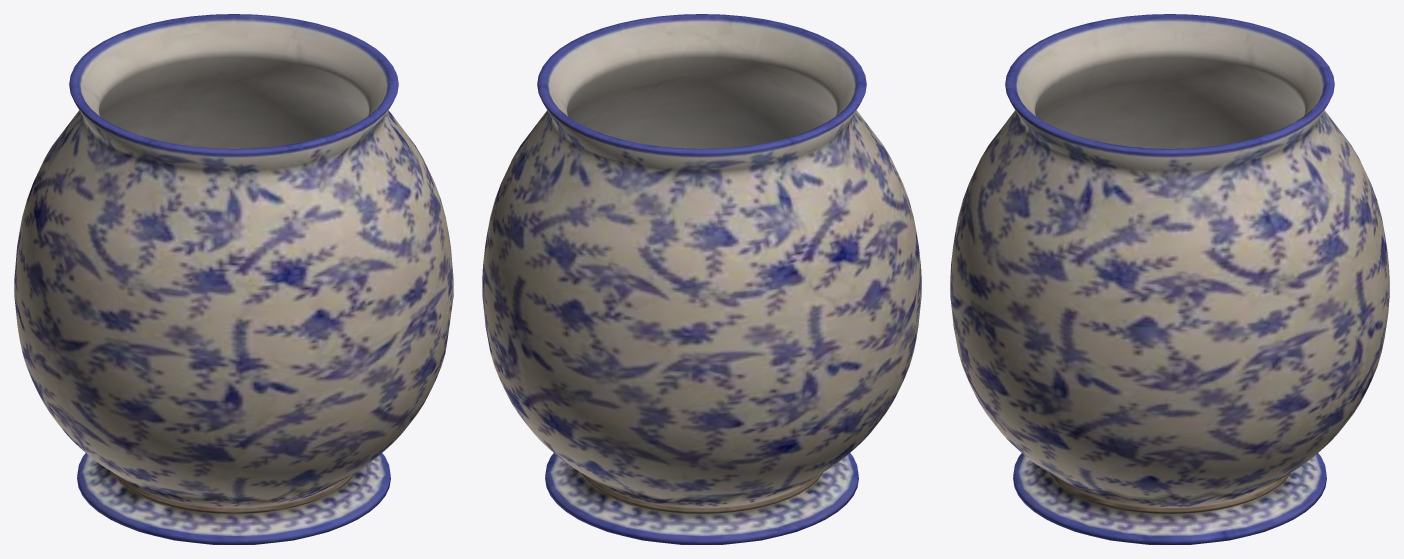
Rendered from ph-antique-ceramic-vase-01.glb.
The picture shows the model from 3 angles, left to right: view 1: azimuth 30°, elevation 25°; view 2: azimuth 150°, elevation 25°; view 3: azimuth 270°, elevation 25°; orthographic projection.
Parts seen in each view (by area): view 1: antique_ceramic_vase_01; view 2: antique_ceramic_vase_01; view 3: antique_ceramic_vase_01.
Part boxes in pixels (<box>): antique_ceramic_vase_01: <box>14,14,453,544</box>; antique_ceramic_vase_01: <box>482,14,921,544</box>; antique_ceramic_vase_01: <box>950,14,1389,544</box>.
Size of the model in its own units: 1 by 1 by 1.
Materials: 1 (1 with a texture image).
